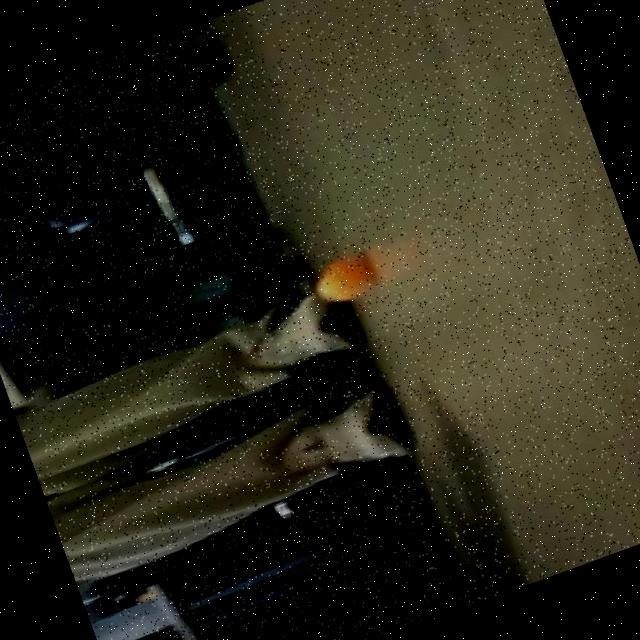ping-pong-ball: (303, 247, 383, 318)
